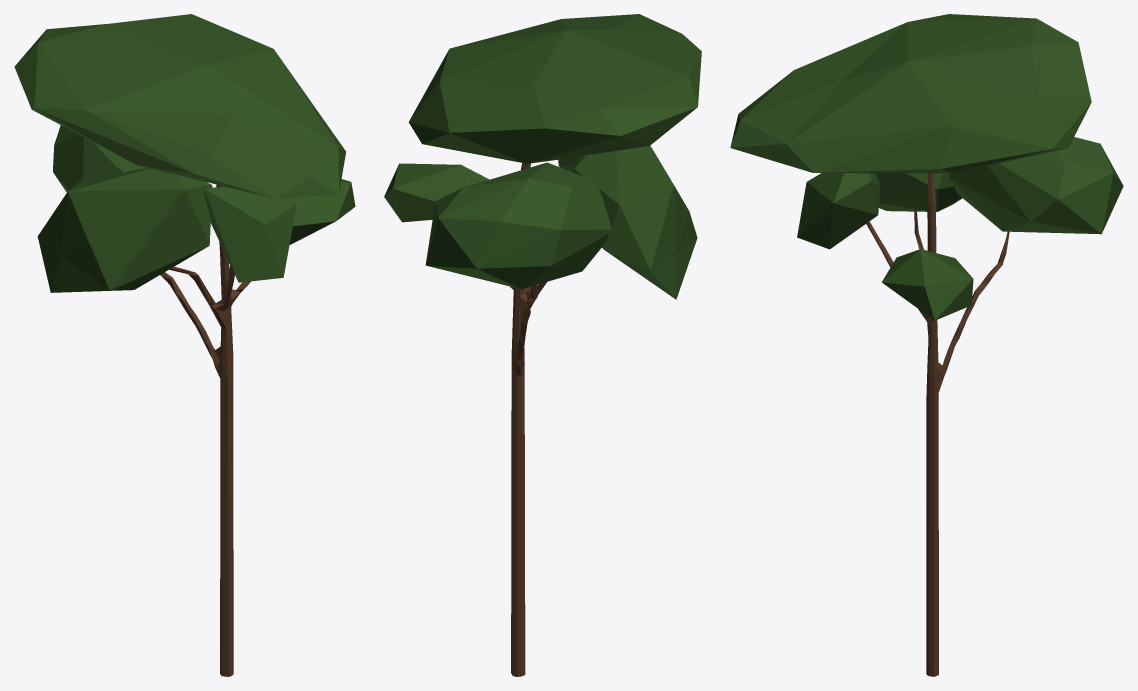
The model's file is SM_tree_03.fbx.
3 renders of one model, left to right at view 1: azimuth 30°, elevation 25°; view 2: azimuth 150°, elevation 25°; view 3: azimuth 270°, elevation 25°, orthographic. The views are drawn at different scales.
Parts seen in each view (by area): view 1: Object123; view 2: Object123; view 3: Object123.
Boxes of the visible parts, box(x1,y1,x2,y2) form: Object123: box(14, 14, 355, 676); Object123: box(384, 14, 701, 676); Object123: box(730, 14, 1123, 676).
Size of the model in its own units: 210 by 403 by 240.
